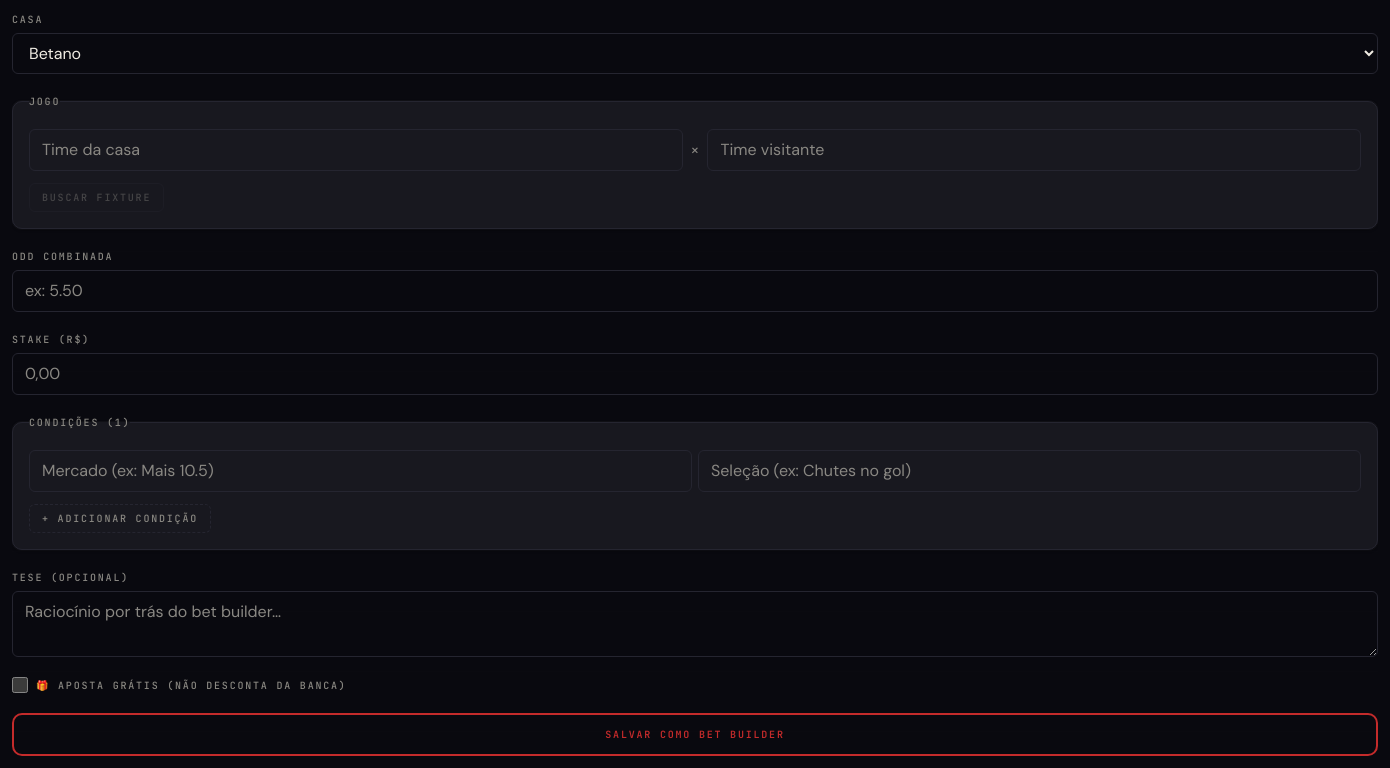
Test: BuilderForm — add/remove leg › adds a new leg row when '+ adicionar condição' is clicked
What coordinates should you click on to do the following:
click the button "+ adicionar condição"
I would click on:
 (120, 518)
Its box is [29,504,211,533].
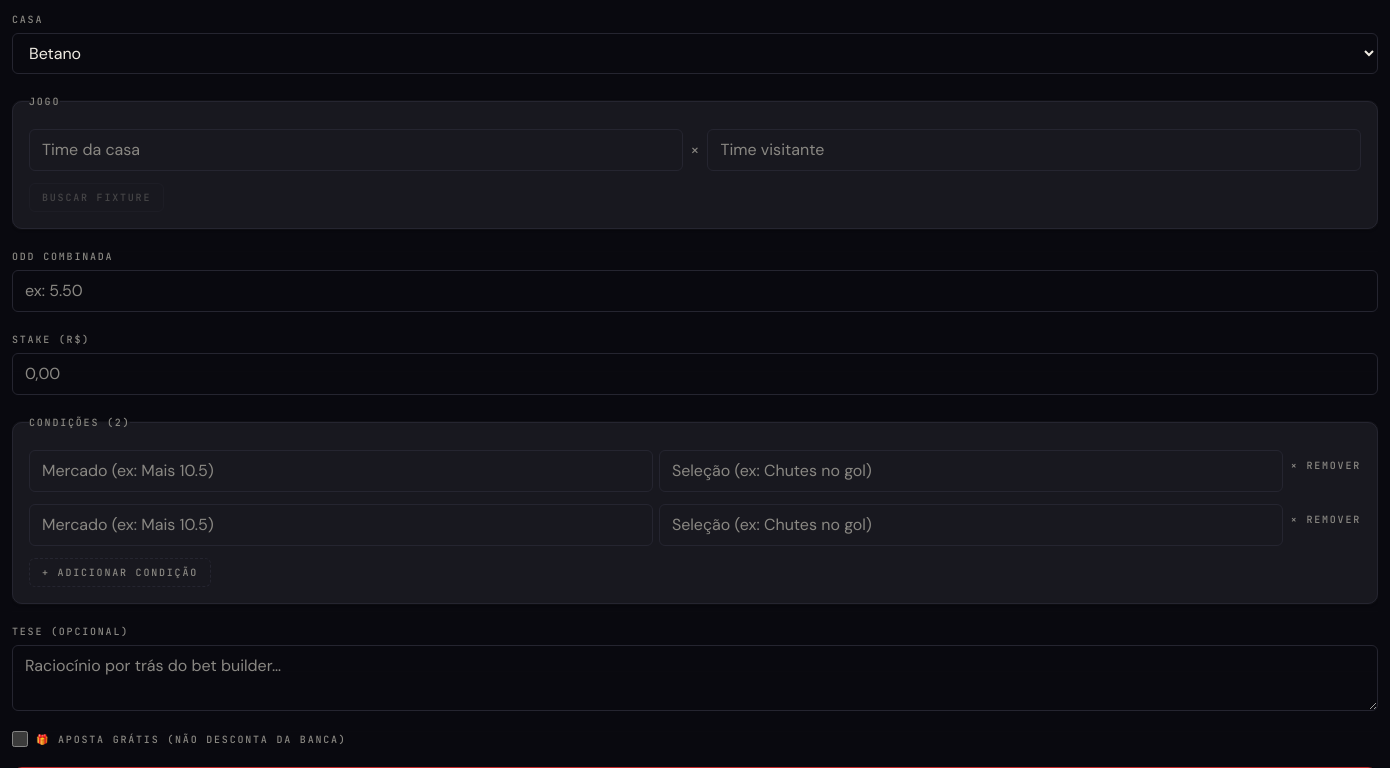
Expected: the number of fields with placeholder "Mercado (ex: Mais 10.5)" is 2, [29,450,653,492]; [29,504,653,546]
